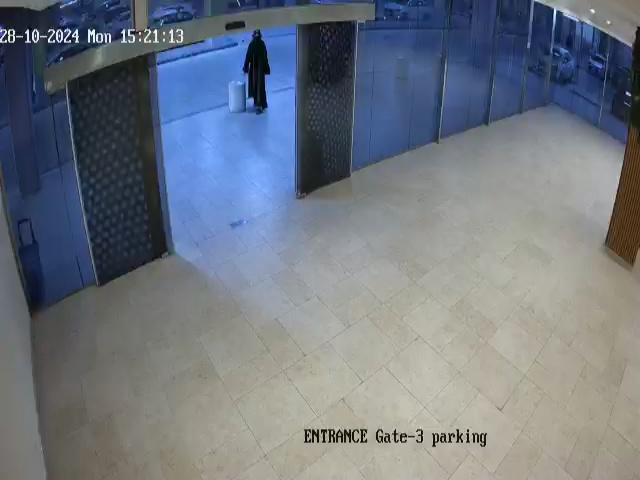female: (242, 29, 271, 115)
